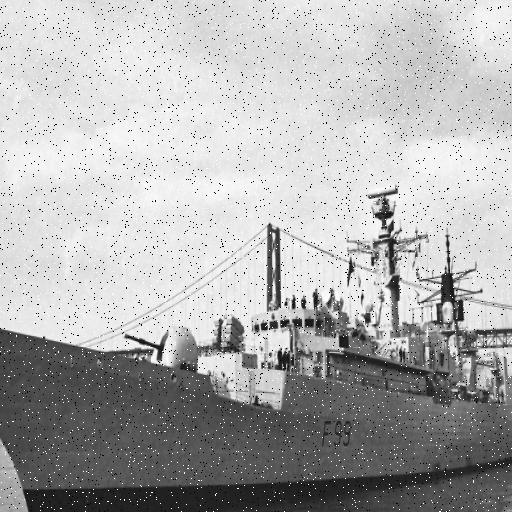Fragata: (1, 180, 512, 512)
